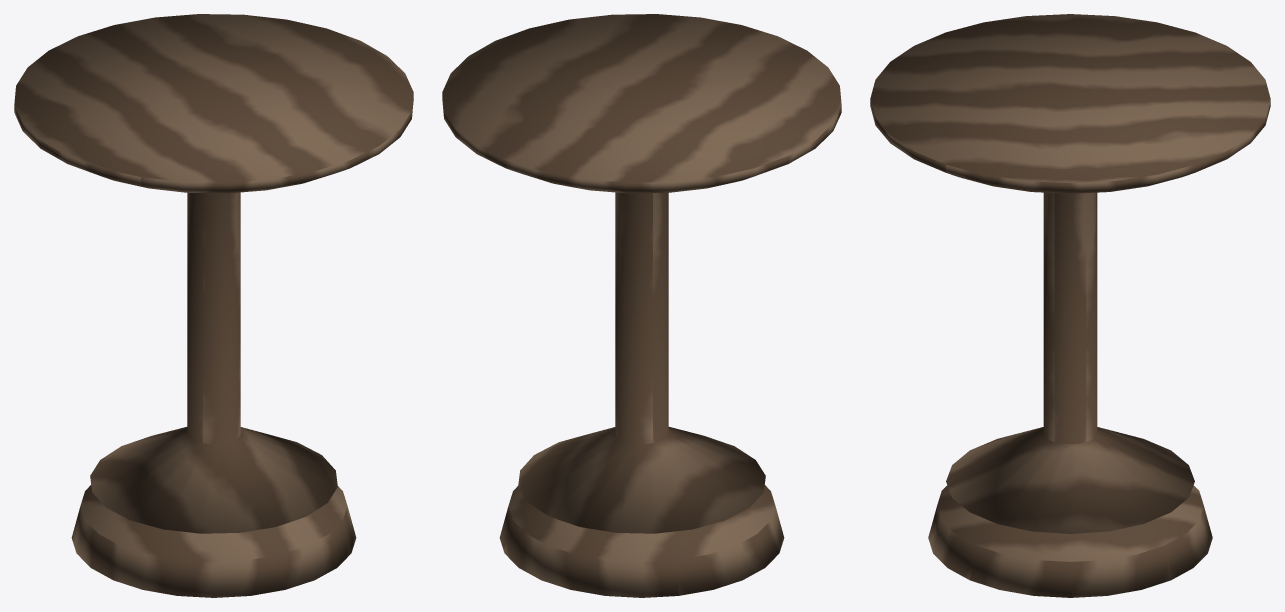
Rendered from FUR_SideTable.fbx.
3 views of the same model, side by side, from view 1: azimuth 30°, elevation 25°; view 2: azimuth 150°, elevation 25°; view 3: azimuth 270°, elevation 25° (orthographic).
Visible parts, largest first — view 1: SideTable_Body; view 2: SideTable_Body; view 3: SideTable_Body.
Boxes of the visible parts, box(x1,y1,x2,y2) form: SideTable_Body: box(14, 14, 413, 597); SideTable_Body: box(442, 14, 841, 597); SideTable_Body: box(870, 14, 1270, 597).
Bounding box in the file's own units: 45 × 55 × 45.
